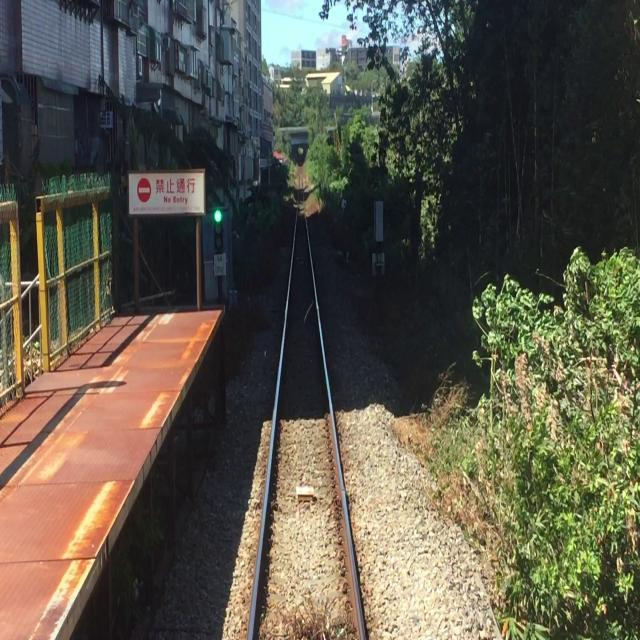track: (242, 188, 375, 640)
